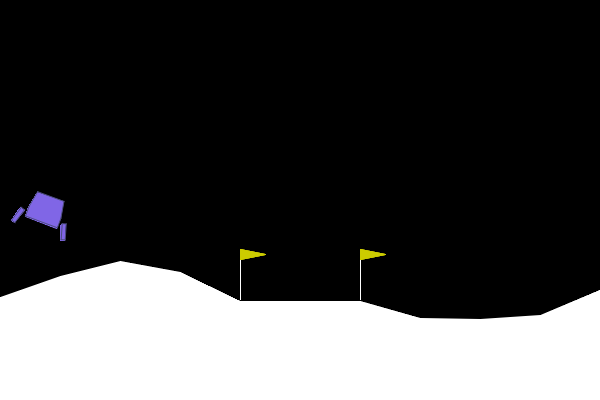lander: (9, 185, 79, 243)
